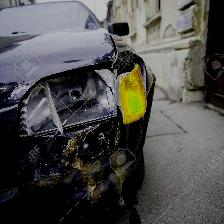head_lamp: (16, 66, 114, 184), (119, 56, 146, 124)
